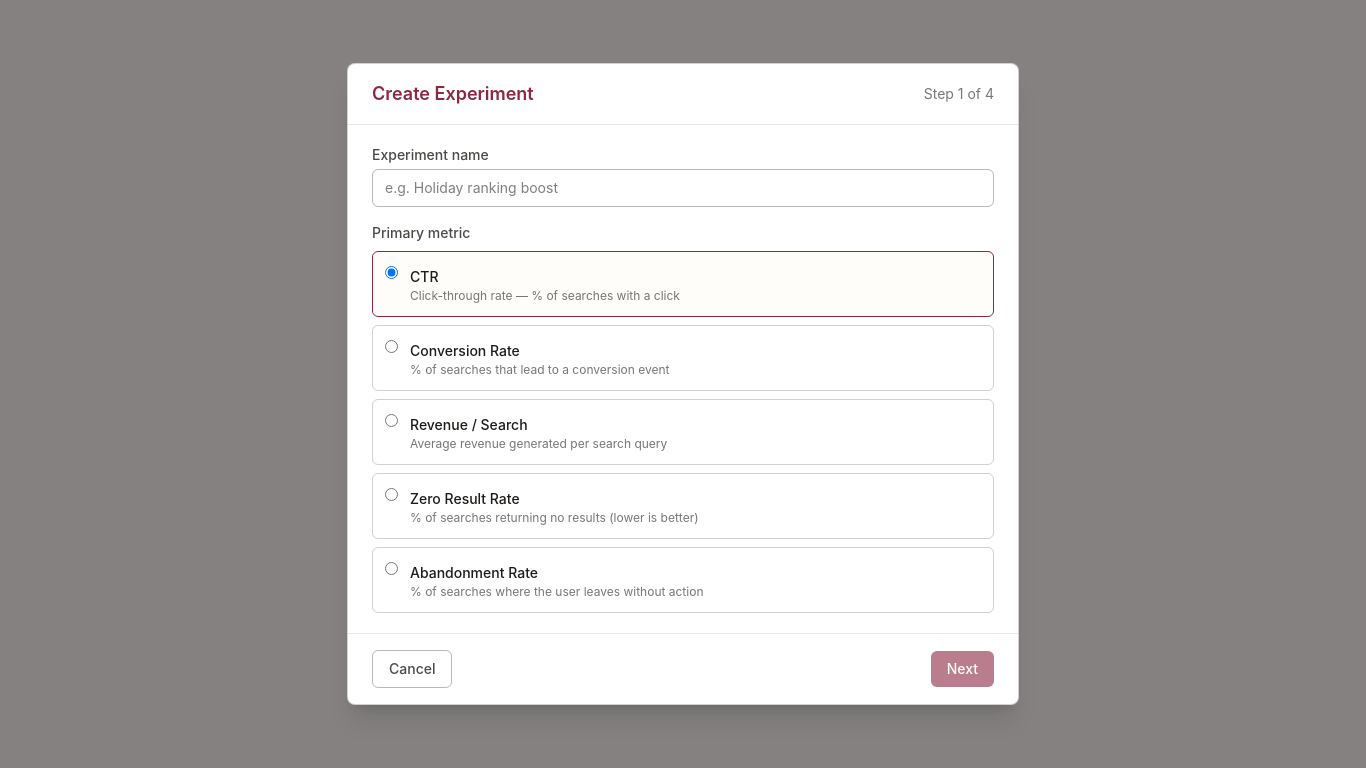
Test case: CreateExperimentDialog › Dirty cancel confirm › opens discard confirm dialog when cancelling with dirty state
Type "dirty" into the field labelled "Experiment name" at (683,188), box [372,169,994,207]
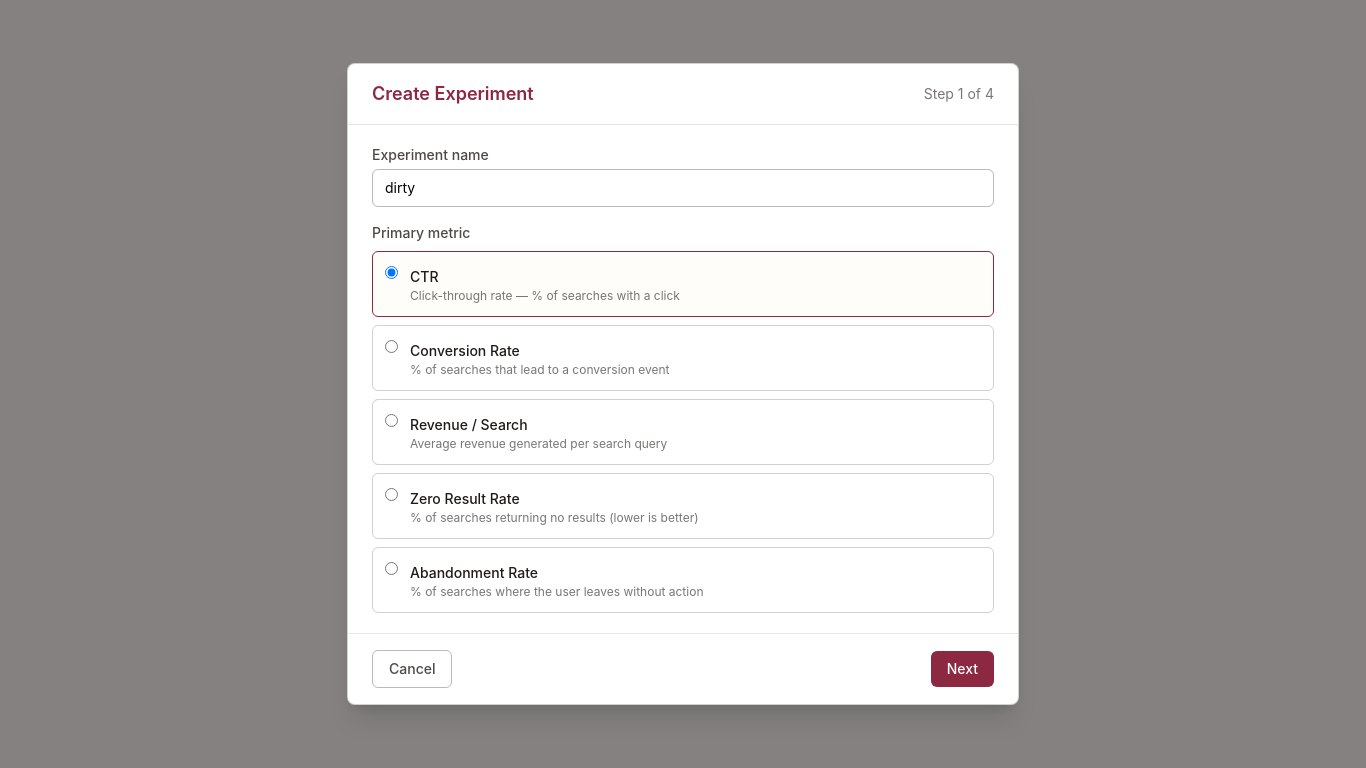
Click the button "Cancel" at (412,669), box [372,650,452,688]
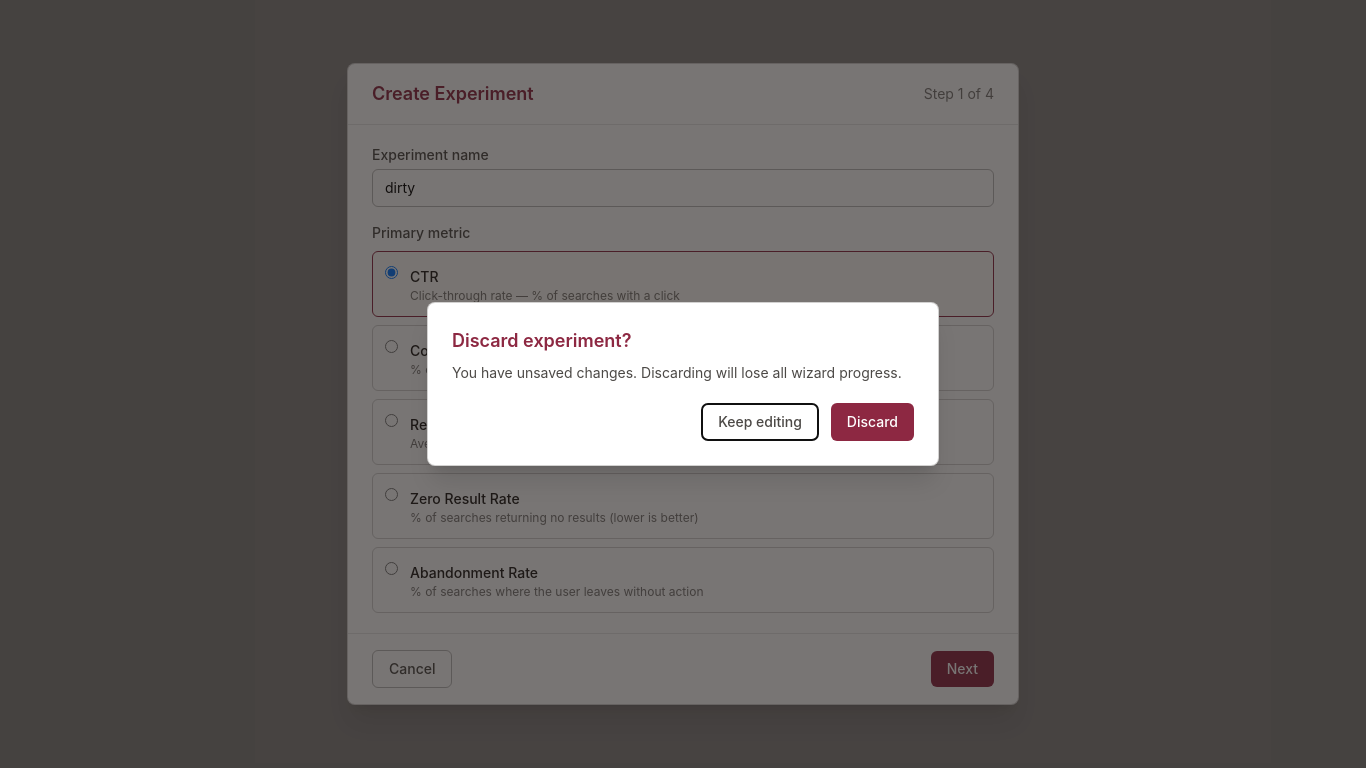
Expected: the dialog with test id "confirm-dialog" is shown
